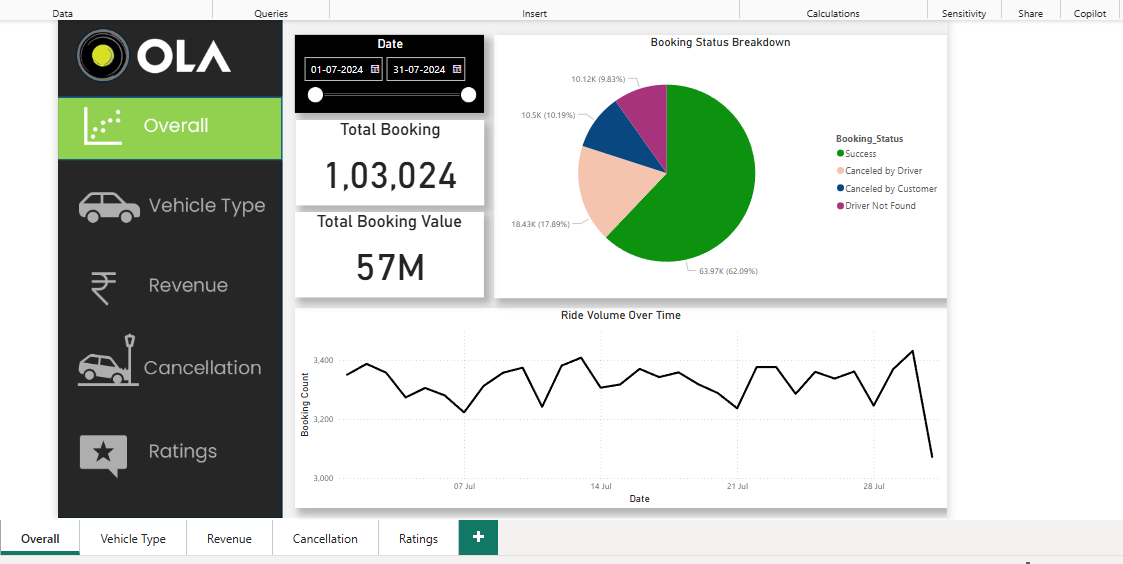

What the dashboard file says about the page in this screenshot:
{"tool":"powerbi","page":{"name":"Overall","canvas":[1280,720],"ordinal":0},"visuals":[{"type":"actionButton","box":[0,220.3,324,92.2],"z":0},{"type":"actionButton","box":[0,339.8,324,92.2],"z":1000},{"type":"actionButton","box":[0,445,324,92.2],"z":2000},{"type":"actionButton","box":[0,578.9,324,92.2],"z":3000},{"type":"actionButton","box":[0,110,323.3,91.7],"z":4000},{"type":"lineChart","title":"Ride Volume Over Time","fields":{"Y":["CountNonNull(July.Booking_ID)"],"Category":["July.Date.Variation.Date Hierarchy.Year","July.Date.Variation.Date Hierarchy.Quarter","July.Date.Variation.Date Hierarchy.Month","July.Date.Variation.Date Hierarchy.Day"]},"box":[341.5,414.7,938.5,287.8],"z":5000},{"type":"pieChart","title":" Booking Status Breakdown","fields":{"Y":["CountNonNull(July.Booking_ID)"],"Category":["July.Booking_Status"]},"box":[627.5,21.5,652.5,379],"z":6000},{"type":"slicer","title":"Date","fields":{"Values":["July.Date"]},"box":[340.6,21.1,272.2,112.4],"z":7000},{"type":"card","title":"Total Booking","fields":{"Values":["CountNonNull(July.Booking_Value)"]},"box":[342.2,143.3,271.1,123.3],"z":8000},{"type":"card","title":"Total Booking Value","fields":{"Values":["Sum(July.Booking_Value)"]},"box":[341.5,277.1,271.7,123.4],"z":9000}]}

Visuals, with their boxes on the page's 1280x720 design canvas (x1, y1, x2, y2). These are canvas units, not pixel positions in the 1123x564 screenshot, which may show the page scaled, cropped or inside an application window:
actionButton: (0, 220, 324, 312)
actionButton: (0, 340, 324, 432)
actionButton: (0, 445, 324, 537)
actionButton: (0, 579, 324, 671)
actionButton: (0, 110, 323, 202)
"Ride Volume Over Time" lineChart: (342, 415, 1280, 702)
" Booking Status Breakdown" pieChart: (628, 22, 1280, 400)
"Date" slicer: (341, 21, 613, 134)
"Total Booking" card: (342, 143, 613, 267)
"Total Booking Value" card: (342, 277, 613, 400)
